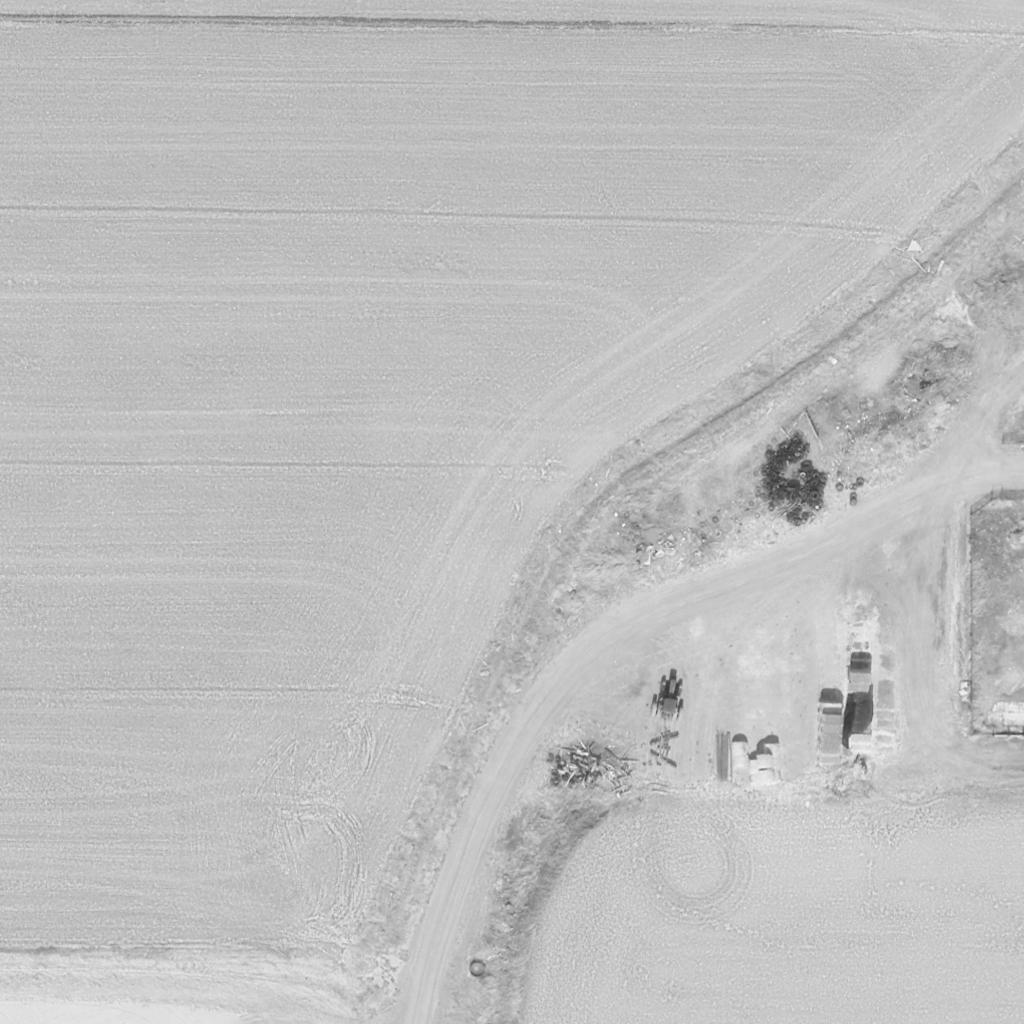vehicle: (647, 672, 691, 724)
